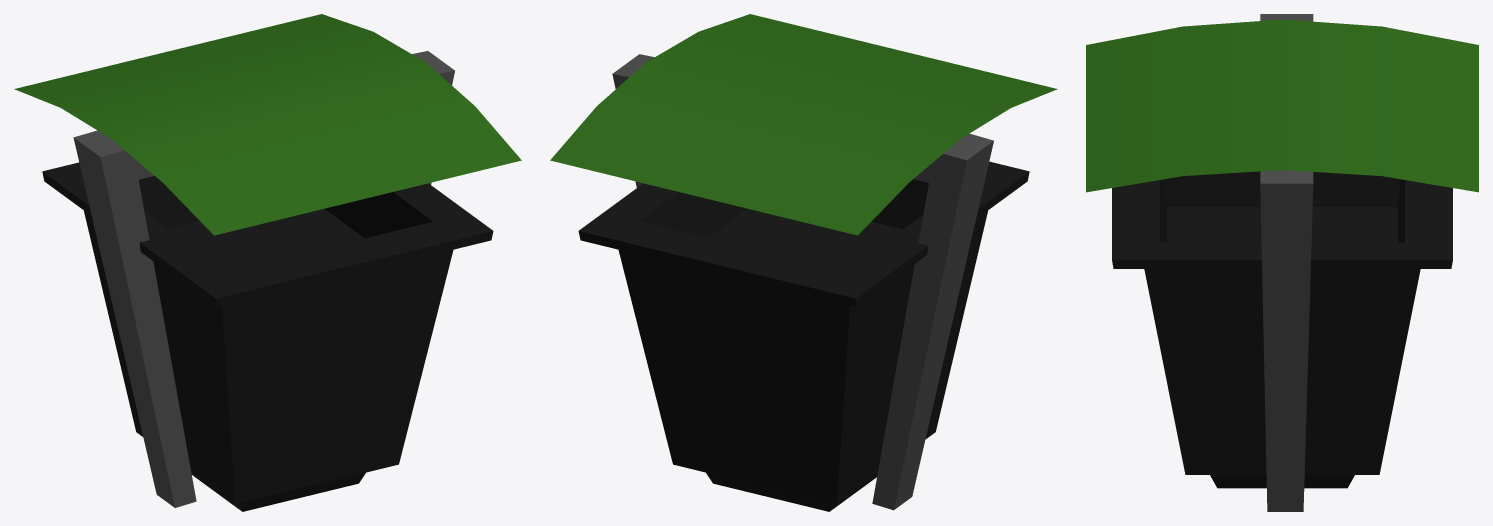
The model's file is Bin1.fbx.
3 views of the same model, side by side, from view 1: azimuth 30°, elevation 25°; view 2: azimuth 150°, elevation 25°; view 3: azimuth 270°, elevation 25° (orthographic).
Visible parts, largest first — view 1: Bin1; view 2: Bin1; view 3: Bin1.
Boxes of the visible parts, bbox=[...] form: Bin1: bbox=[14, 14, 521, 511]; Bin1: bbox=[550, 14, 1057, 511]; Bin1: bbox=[1086, 14, 1478, 511].
Bounding box in the file's own units: 122 × 124 × 119.
